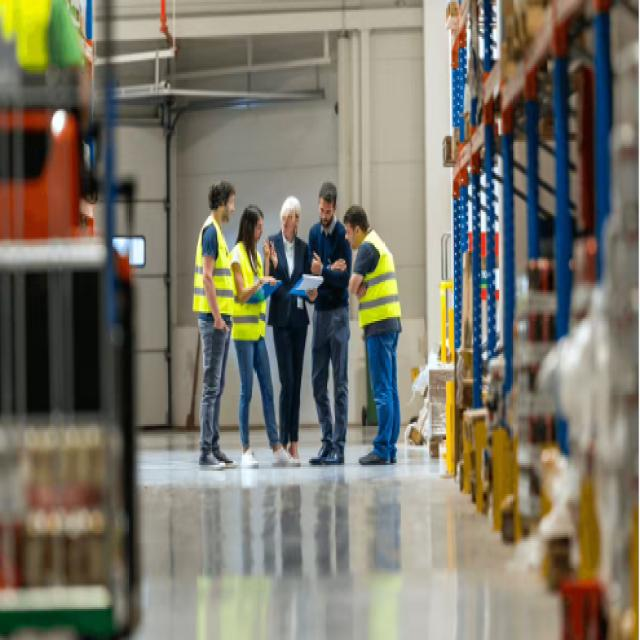boots: (360, 448, 397, 472)
vest: (350, 232, 408, 329), (193, 208, 235, 332), (228, 241, 268, 350)
